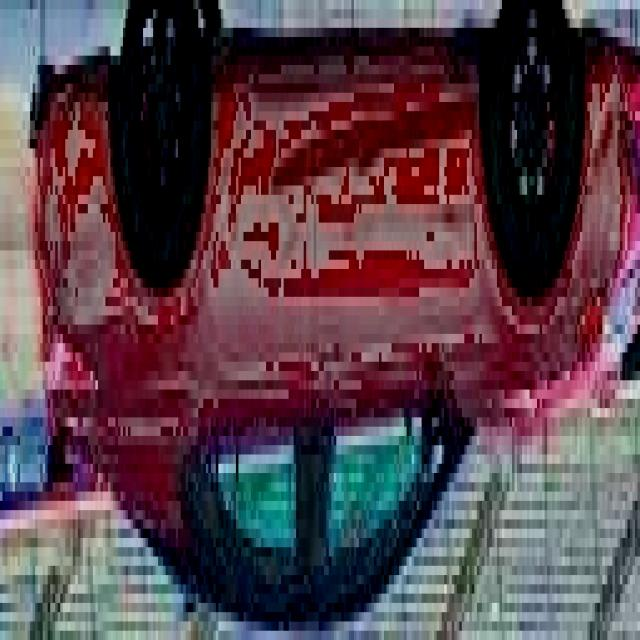maroon: (23, 0, 638, 622)
